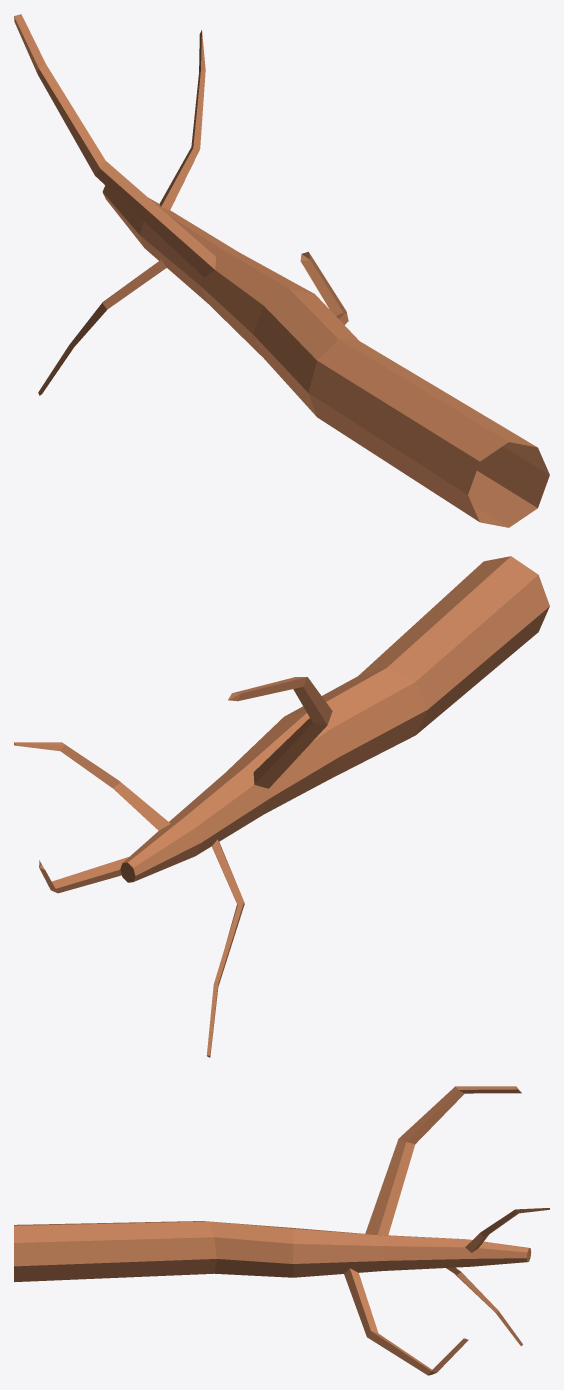
File: Árbol base.fbx
3 renders of one model, top to bottom at view 1: azimuth 30°, elevation 25°; view 2: azimuth 150°, elevation 25°; view 3: azimuth 270°, elevation 25°, orthographic. The views are drawn at different scales.
Visible parts, largest first — view 1: Circle.001; view 2: Circle.001; view 3: Circle.001.
Part boxes in pixels (<box>): Circle.001: <box>14,14,549,527</box>; Circle.001: <box>14,556,549,1057</box>; Circle.001: <box>14,1086,549,1375</box>.
Size of the model in its own units: 706 by 907 by 1758.
